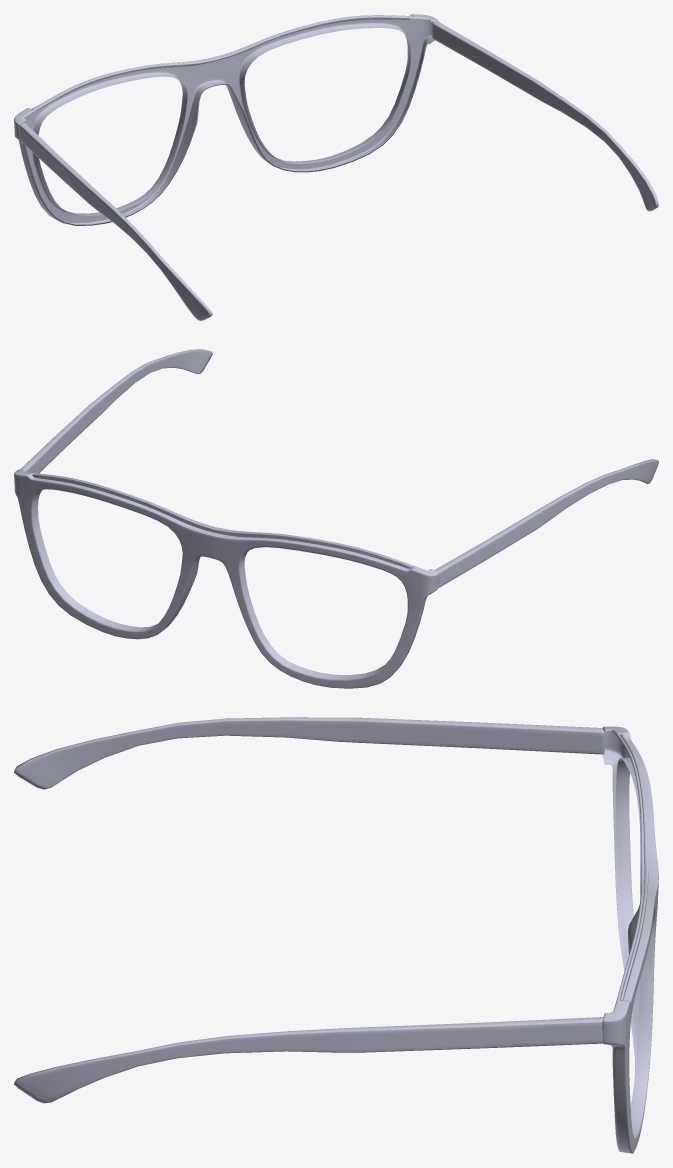
File: sunglass_blue_purple.fbx
3 views of the same model, one above another, from view 1: azimuth 30°, elevation 25°; view 2: azimuth 150°, elevation 25°; view 3: azimuth 270°, elevation 25° (orthographic). The views are drawn at different scales.
Parts seen in each view (by area): view 1: am_body.001; view 2: am_body.001; view 3: am_body.001.
Boxes of the visible parts, x1,y1,x2,y2 form: am_body.001: (14,14,658,320); am_body.001: (14,349,658,688); am_body.001: (14,717,658,1153).
Bounding box in the file's own units: 16.26 × 4.9 × 13.72.
